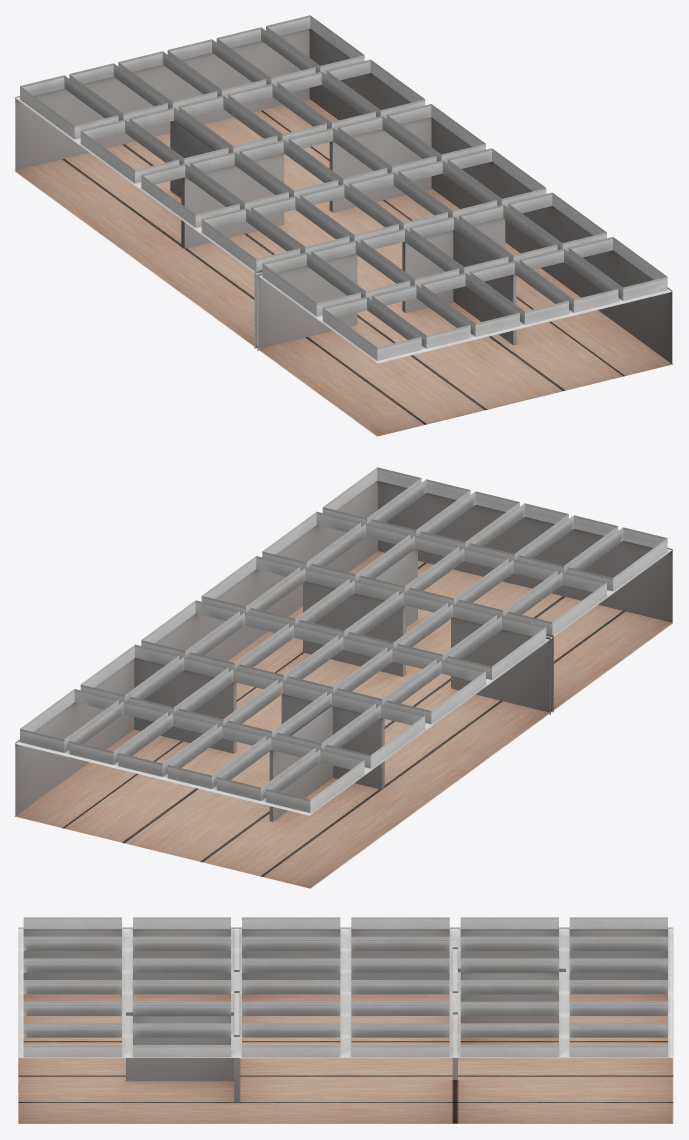
3 views of the same model, one above another, from view 1: azimuth 30°, elevation 25°; view 2: azimuth 150°, elevation 25°; view 3: azimuth 270°, elevation 25° (orthographic). The views are drawn at different scales.
Visible parts, largest first — view 1: Object_4, Object_5, Object_3, Object_6; view 2: Object_4, Object_5, Object_3, Object_6; view 3: Object_4, Object_5, Object_3, Object_6.
Boxes of the visible parts, box(x1,y1,x2,y2) form: Object_4: box(15, 15, 672, 363); Object_5: box(14, 99, 672, 436); Object_3: box(15, 28, 672, 364); Object_6: box(170, 117, 516, 350); Object_4: box(15, 467, 672, 815); Object_5: box(14, 551, 672, 888); Object_3: box(15, 480, 672, 816); Object_6: box(134, 549, 553, 821); Object_4: box(18, 917, 673, 1057); Object_5: box(18, 994, 673, 1123); Object_3: box(19, 927, 672, 979); Object_6: box(126, 947, 565, 1102).
Bounding box in the file's own units: 2013 × 572 × 4308.
5 materials, 4 textured.
